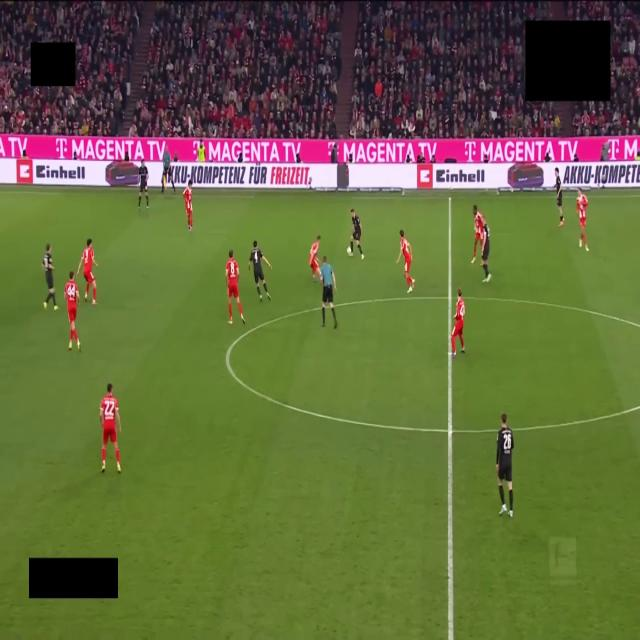ball: (347, 247, 351, 255)
player: (100, 384, 121, 472), (496, 414, 513, 517), (226, 250, 245, 324), (76, 239, 97, 304), (249, 241, 271, 302), (64, 272, 80, 351), (397, 230, 414, 293), (43, 243, 58, 311), (451, 288, 465, 358), (349, 208, 364, 259), (472, 206, 485, 263), (577, 188, 588, 251), (481, 218, 491, 282), (555, 168, 564, 226), (138, 160, 148, 212), (309, 235, 320, 281), (183, 179, 192, 231)
referee: (320, 256, 337, 328)
